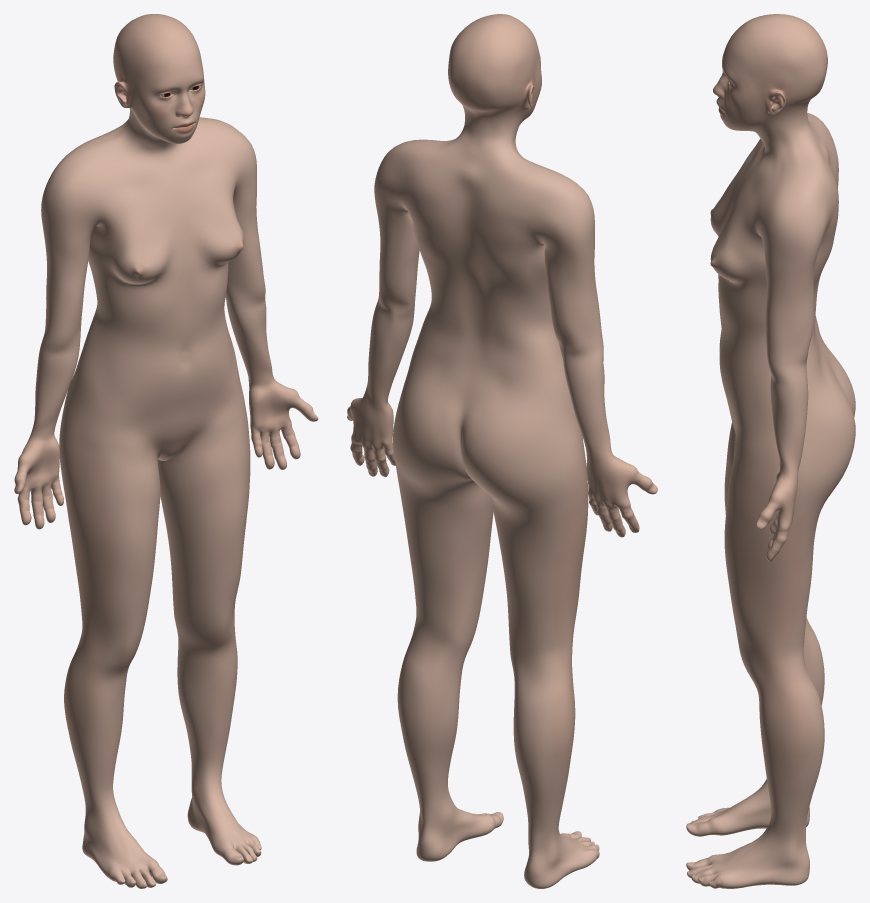
File: Anato3D_Female_30_Fase2_draco.glb
The picture shows the model from 3 angles, left to right: view 1: azimuth 30°, elevation 25°; view 2: azimuth 150°, elevation 25°; view 3: azimuth 270°, elevation 25°; orthographic projection. The views are drawn at different scales.
Parts seen in each view (by area): view 1: Skin_Thigh_R, Skin_Abdomen, Skin_Thigh_L, Skin_Chest, Skin_Leg_L, Skin_Leg_R, Skin_Shoulder_R, Skin_Breast_R, Skin_Scalp, Skin_Neck, Skin_Face, Skin_Hand_L (+16 smaller); view 2: Skin_Back, Skin_Thigh_R, Skin_Buttock_R, Skin_Thigh_L, Skin_Buttock_L, Skin_Scalp, Skin_Leg_L, Skin_Lumbar, Skin_Leg_R, Skin_Shoulder_R, Skin_Neck, Skin_Arm_R (+14 smaller); view 3: Skin_Thigh_L, Skin_Leg_L, Skin_Shoulder_L, Skin_Scalp, Skin_Buttock_L, Skin_Abdomen, Skin_Foot_L, Skin_Arm_L, Skin_Neck, Skin_Chest, Skin_Knee_L, Skin_Forearm_L (+13 smaller).
Boxes of the visible parts, x1=… form: Skin_Thigh_R: x1=59, y1=395, x2=168, y2=649; Skin_Abdomen: x1=78, y1=258, x2=236, y2=447; Skin_Thigh_L: x1=160, y1=362, x2=250, y2=625; Skin_Chest: x1=85, y1=163, x2=240, y2=334; Skin_Leg_L: x1=177, y1=649, x2=237, y2=809; Skin_Leg_R: x1=64, y1=675, x2=127, y2=832; Skin_Shoulder_R: x1=41, y1=135, x2=131, y2=241; Skin_Breast_R: x1=103, y1=222, x2=175, y2=302; Skin_Scalp: x1=113, y1=14, x2=200, y2=115; Skin_Neck: x1=99, y1=108, x2=208, y2=184; Skin_Face: x1=125, y1=58, x2=205, y2=142; Skin_Hand_L: x1=249, y1=382, x2=318, y2=469; Skin_Back: x1=411, y1=166, x2=552, y2=330; Skin_Thigh_R: x1=491, y1=421, x2=588, y2=658; Skin_Buttock_R: x1=461, y1=369, x2=581, y2=501; Skin_Thigh_L: x1=394, y1=458, x2=493, y2=637; Skin_Buttock_L: x1=393, y1=342, x2=471, y2=482; Skin_Scalp: x1=448, y1=14, x2=537, y2=119; Skin_Leg_L: x1=397, y1=672, x2=461, y2=826; Skin_Lumbar: x1=417, y1=301, x2=564, y2=381; Skin_Leg_R: x1=513, y1=703, x2=575, y2=851; Skin_Shoulder_R: x1=507, y1=161, x2=594, y2=261; Skin_Neck: x1=428, y1=108, x2=530, y2=185; Skin_Arm_R: x1=544, y1=245, x2=600, y2=339; Skin_Thigh_L: x1=724, y1=411, x2=841, y2=664; Skin_Leg_L: x1=751, y1=701, x2=824, y2=851; Skin_Shoulder_L: x1=752, y1=157, x2=837, y2=268; Skin_Scalp: x1=726, y1=14, x2=827, y2=121; Skin_Buttock_L: x1=769, y1=348, x2=855, y2=496; Skin_Abdomen: x1=718, y1=274, x2=772, y2=425; Skin_Foot_L: x1=686, y1=840, x2=809, y2=888; Skin_Arm_L: x1=765, y1=257, x2=815, y2=348; Skin_Neck: x1=725, y1=103, x2=829, y2=186; Skin_Chest: x1=718, y1=145, x2=766, y2=329; Skin_Knee_L: x1=739, y1=649, x2=820, y2=714; Skin_Forearm_L: x1=770, y1=379, x2=808, y2=481.
Bounding box in the file's own units: 0.6009 × 1.58 × 0.2882.
9 materials, 8 textured.
